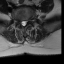CCS_normal: (22, 19, 25, 27)
LFS_stenosis: (27, 17, 29, 23)
LLS_normal: (25, 19, 27, 26)
RFS_severe_stenosis: (18, 18, 20, 24)
RLS_normal: (20, 19, 23, 27)
